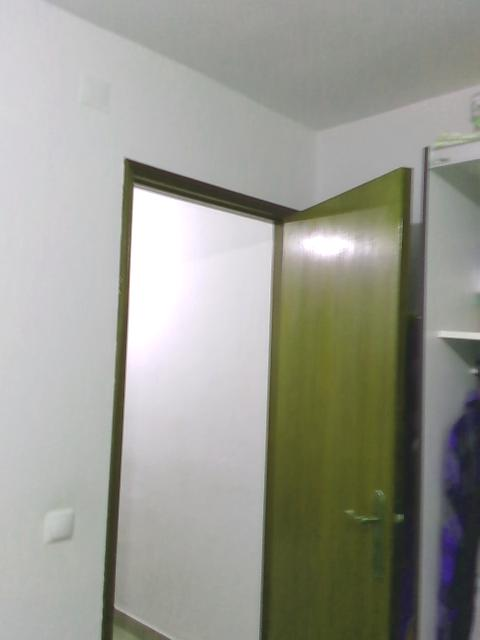open_door: (99, 155, 313, 639)
